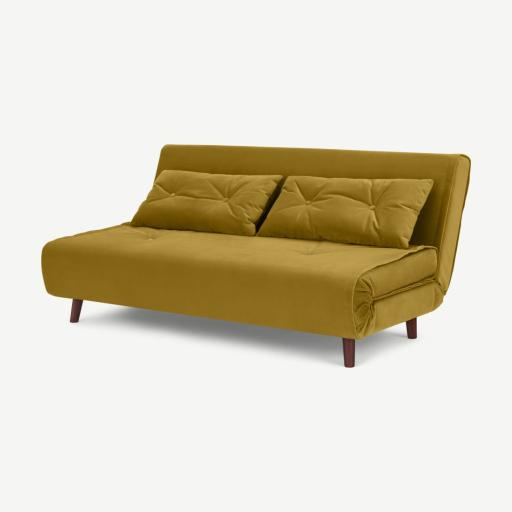back_cushion: (130, 145, 465, 288)
legs: (343, 338, 354, 367), (70, 300, 83, 323), (407, 319, 415, 339)
seat_cushion: (42, 224, 442, 339)
two-seater: (0, 0, 511, 512)
